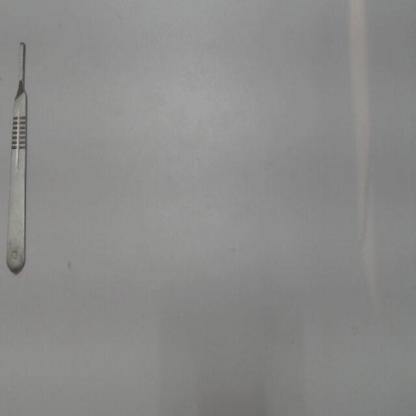No.4 BP Handle: (2, 34, 36, 286)
